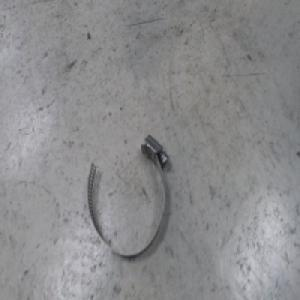AdjustableClamp: (85, 129, 170, 260)
